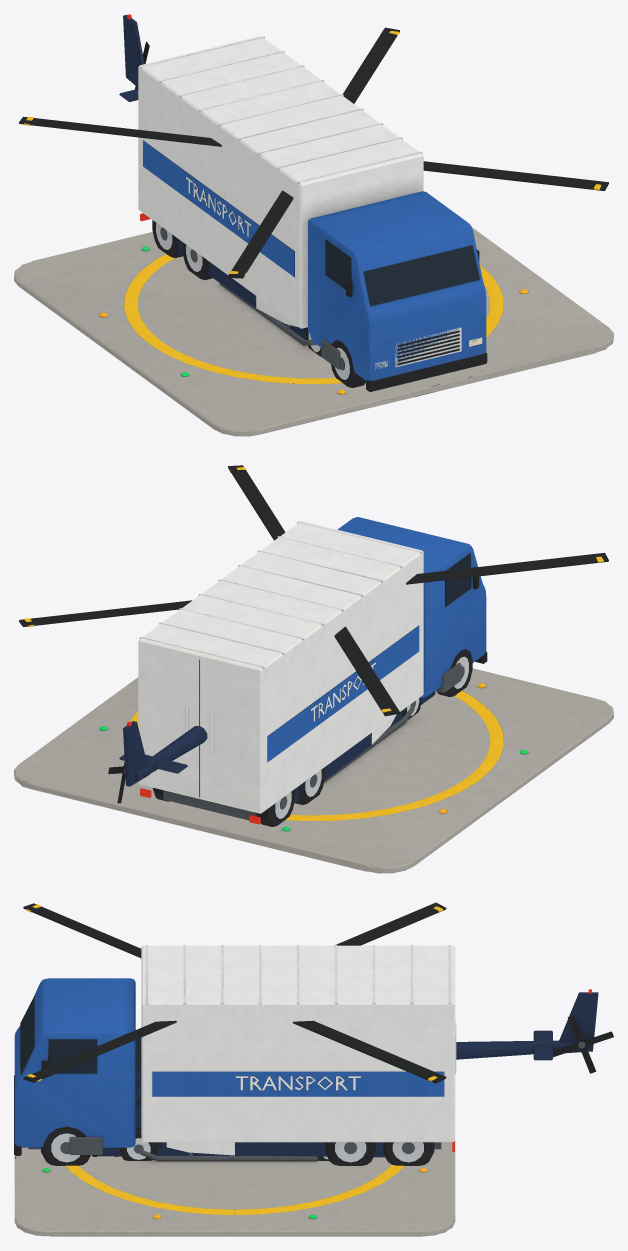
File: vehicles.glb
3 views of the same model, one above another, from view 1: azimuth 30°, elevation 25°; view 2: azimuth 150°, elevation 25°; view 3: azimuth 270°, elevation 25° (orthographic). The views are drawn at different scales.
Visible parts, largest first — view 1: truck_body, heli_body, rotor, boat_body; view 2: truck_body, heli_body, rotor, boat_body; view 3: truck_body, heli_body, rotor, boat_body, van_body, tail_rotor.
Part boxes in pixels (bbox=[...]): truck_body: bbox=[138, 36, 487, 391]; heli_body: bbox=[14, 14, 613, 436]; rotor: bbox=[19, 27, 608, 278]; boat_body: bbox=[177, 239, 298, 327]; truck_body: bbox=[138, 517, 487, 826]; heli_body: bbox=[14, 668, 613, 873]; rotor: bbox=[19, 465, 608, 716]; boat_body: bbox=[256, 715, 396, 816]; truck_body: bbox=[14, 945, 456, 1165]; heli_body: bbox=[14, 989, 598, 1236]; rotor: bbox=[23, 902, 446, 1083]; boat_body: bbox=[166, 1142, 385, 1157]; van_body: bbox=[91, 1079, 329, 1160]; tail_rotor: bbox=[553, 1015, 613, 1073].
Bounding box in the file's own units: 8 × 3.4 × 10.89.
8 materials, 7 textured.
